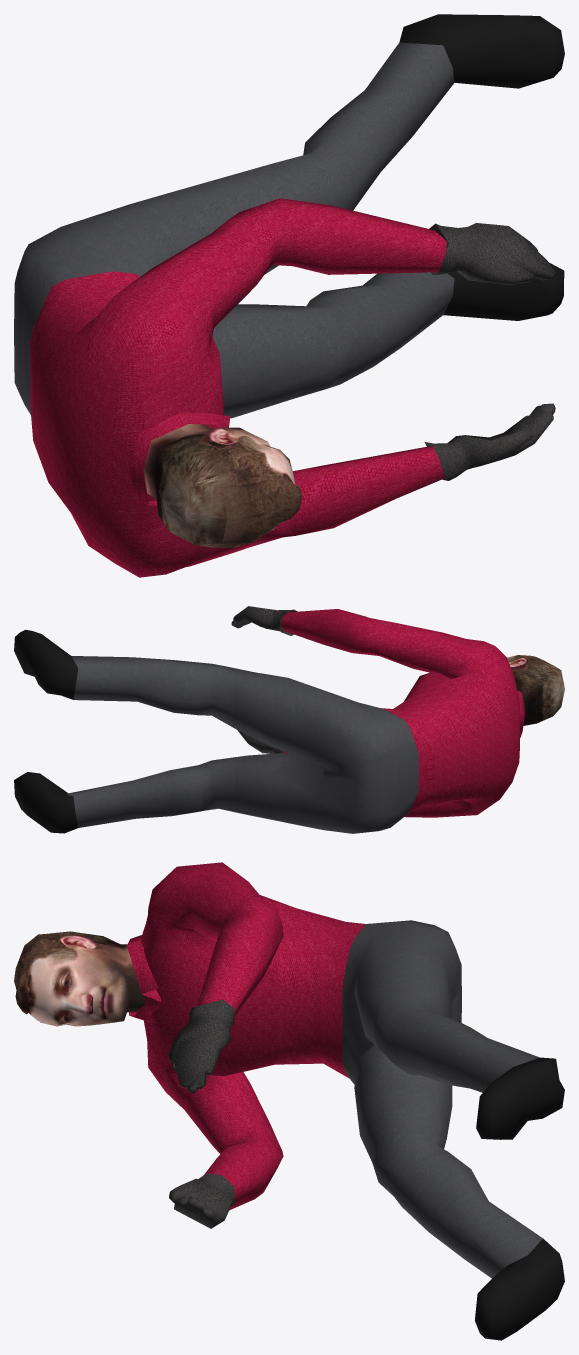
Rendered from driver.obj.
3 renders of one model, top to bottom at view 1: azimuth 30°, elevation 25°; view 2: azimuth 150°, elevation 25°; view 3: azimuth 270°, elevation 25°, orthographic. The views are drawn at different scales.
Parts seen in each view (by area): view 1: Shirt, Pants, Shoes, 11_-_Default, glove, 12_-_Default; view 2: Pants, Shirt, Shoes, 11_-_Default, glove; view 3: Shirt, Pants, Shoes, 11_-_Default, glove.
Boxes of the visible parts, x1,y1,x2,y2 form: Shirt: [30, 198, 446, 577]; Pants: [14, 42, 454, 418]; Shoes: [399, 14, 564, 320]; 11_-_Default: [143, 424, 302, 547]; glove: [424, 223, 555, 480]; 12_-_Default: [222, 476, 296, 541]; Pants: [66, 656, 418, 833]; Shirt: [281, 609, 524, 817]; Shoes: [14, 629, 78, 833]; 11_-_Default: [507, 655, 564, 725]; glove: [231, 606, 297, 753]; Shirt: [127, 862, 365, 1210]; Pants: [342, 920, 542, 1278]; Shoes: [475, 1057, 564, 1340]; 11_-_Default: [15, 931, 145, 1026]; glove: [169, 999, 234, 1228].
Bounding box in the file's own units: 1.17 × 0.5628 × 1.
6 materials, 5 textured.
